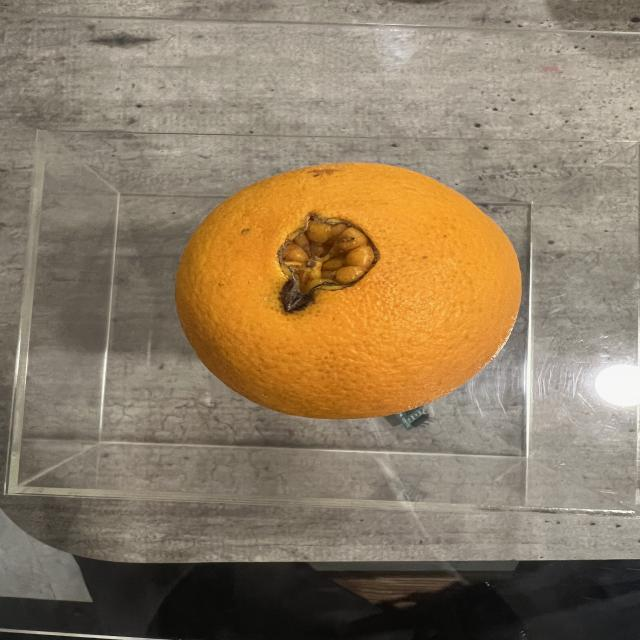navel orange: (170, 161, 520, 419)
